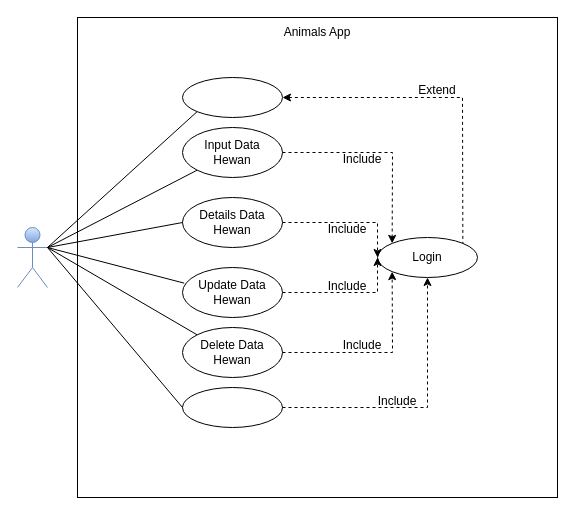
Image size: 575x515. Some labels were removed from this diagram. The shapes that lost their labels are listed below. From the top down, each one's centre as x and y in pixels, then its label:
At point 232,97: "Register".
At point 32,257: "User".
At point 232,407: "Logout".
